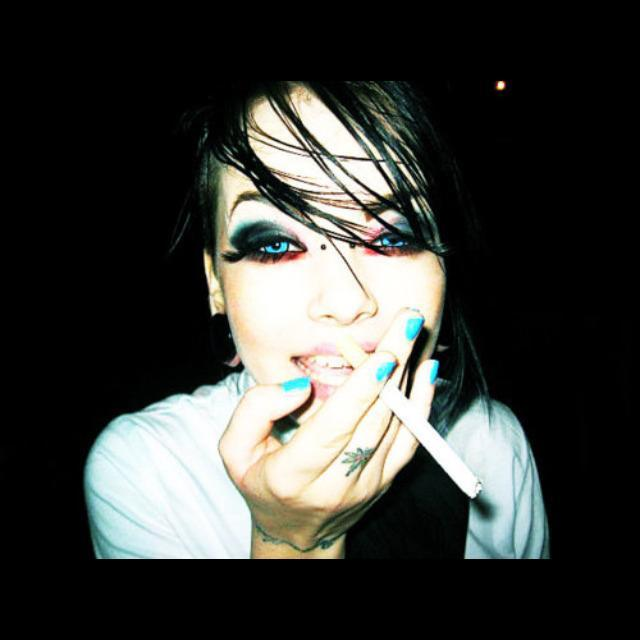rokok: (341, 346, 493, 508)
